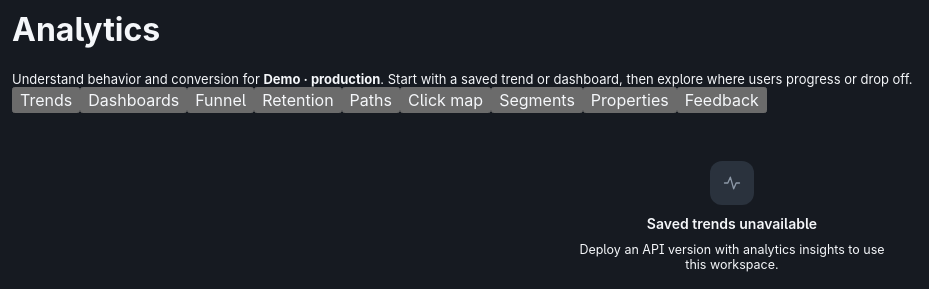
Test: AnalyticsScreen › opens the dashboard workspace from the analytics tabs
Click the button "Dashboards". click: (134, 100)
box: [80, 87, 187, 113]
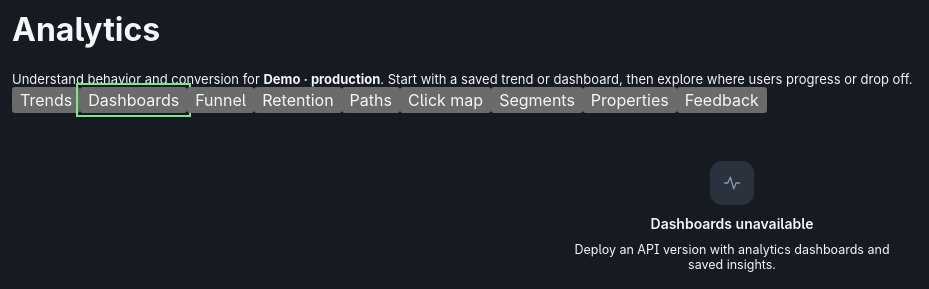
Check: the text "Dashboards unavailable" is shown, box [650, 215, 814, 232]
